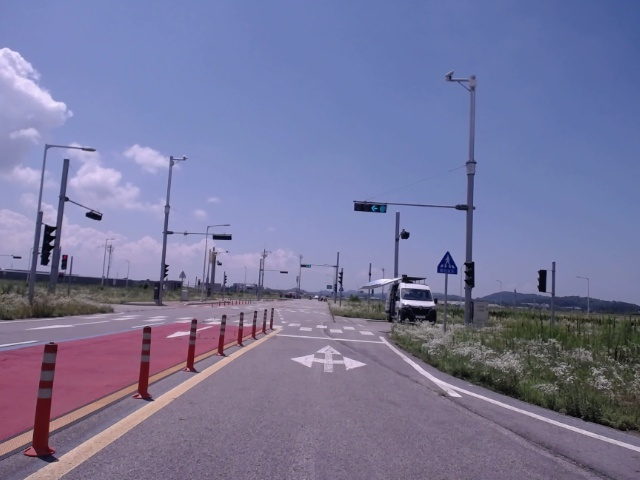all_green_4: (351, 199, 388, 215)
